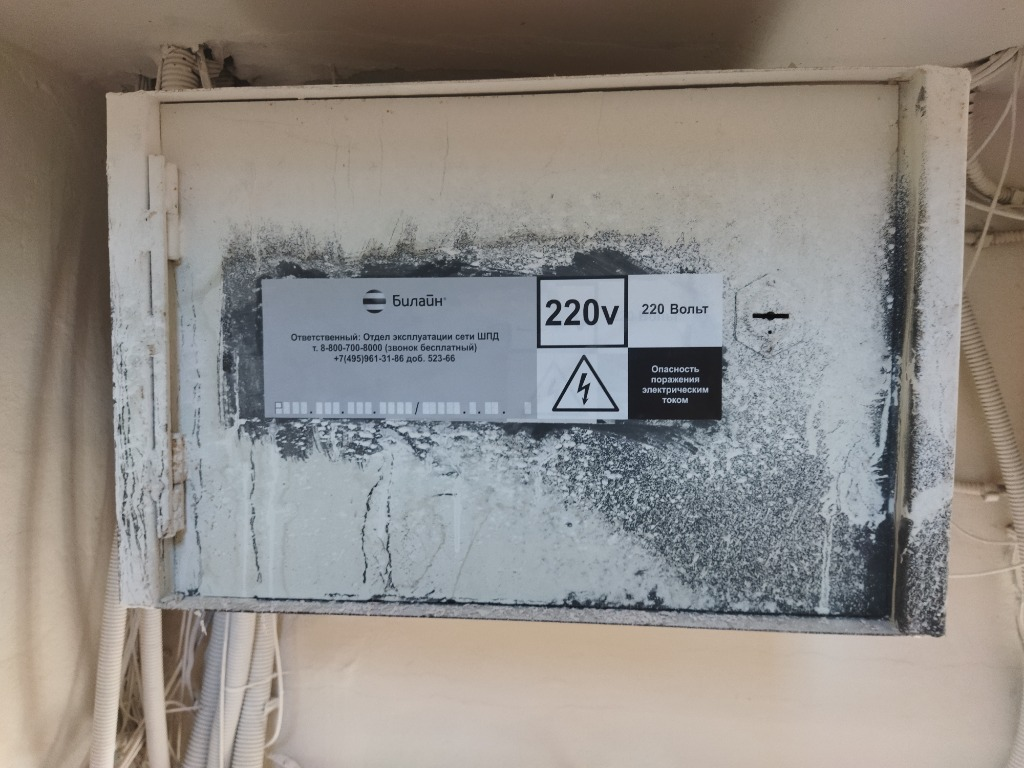e2-6u: (94, 55, 975, 645)
